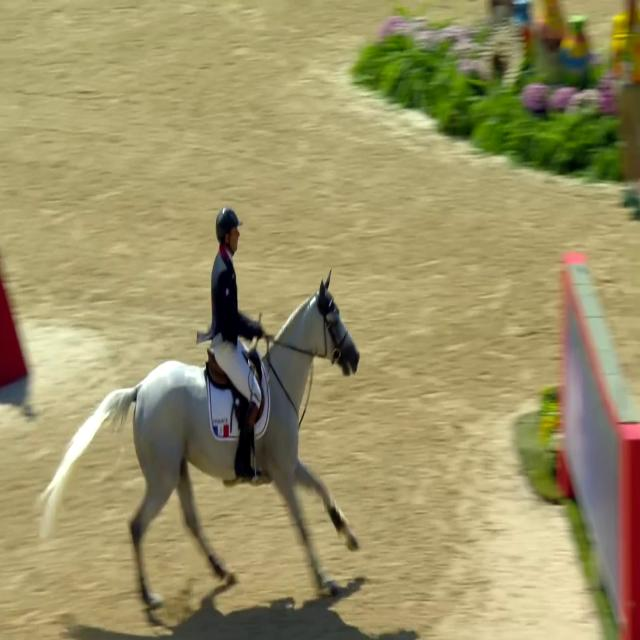Horse Rider: (194, 169, 278, 494)
Horse Running: (31, 265, 393, 634)
